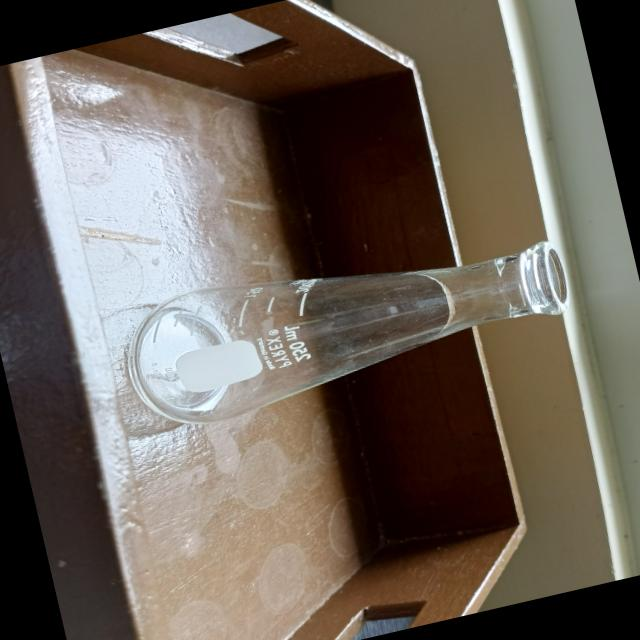erlenmeyer_flask: (110, 203, 588, 440)
